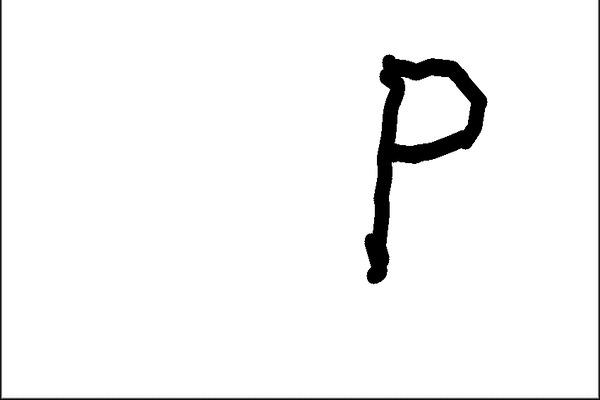P: (348, 36, 499, 298)
